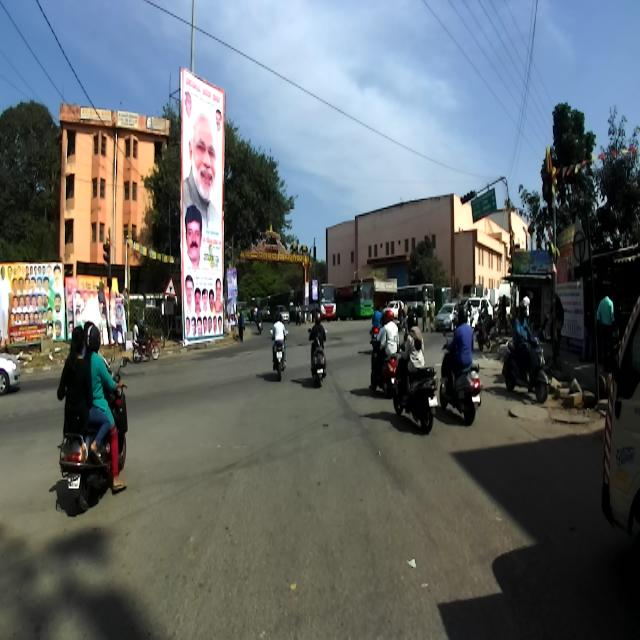motorcycle ahead at: (56, 415, 137, 516), (502, 299, 558, 412), (392, 362, 439, 432), (300, 344, 334, 388)
